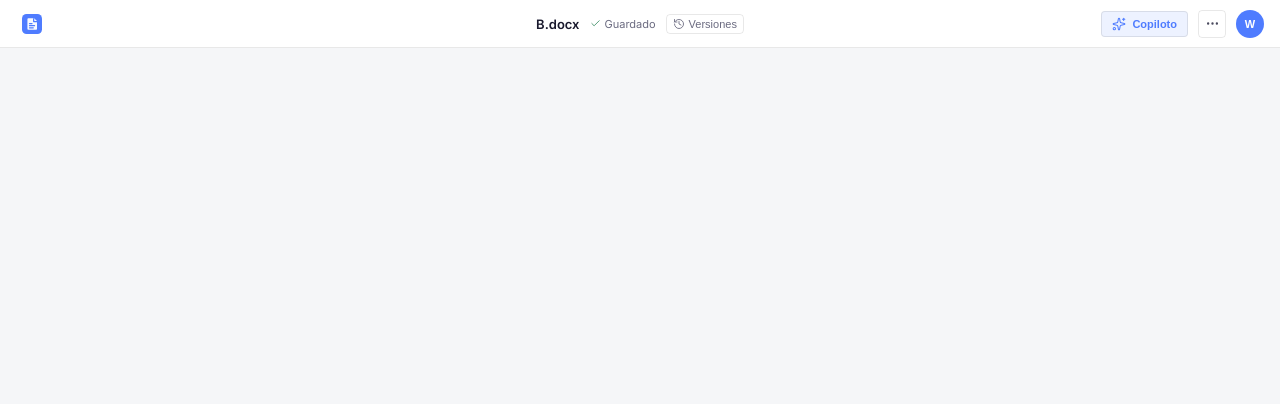
Scenario: T7 — la barra mínima › el botón de más acciones abre y cierra el menú de desborde
Step 1. Click the button named "Más acciones" → point(1212, 24), box top-left (1198, 10), bottom-right (1226, 38)
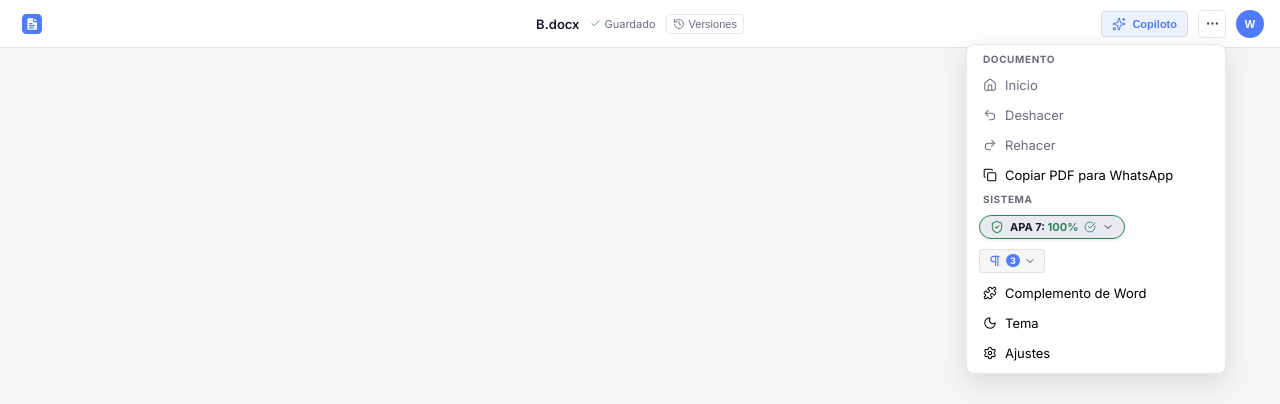
Check: the menu named "Más acciones" is shown, box top-left (966, 44), bottom-right (1226, 374)
Step 2. Click the button named "Más acciones" → point(1212, 24), box top-left (1198, 10), bottom-right (1226, 38)
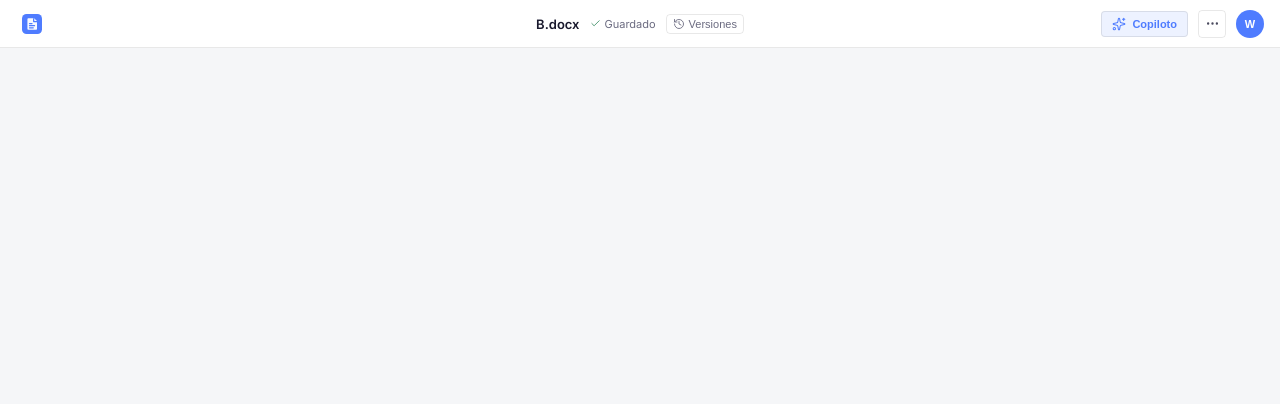
Check: the menu is gone
